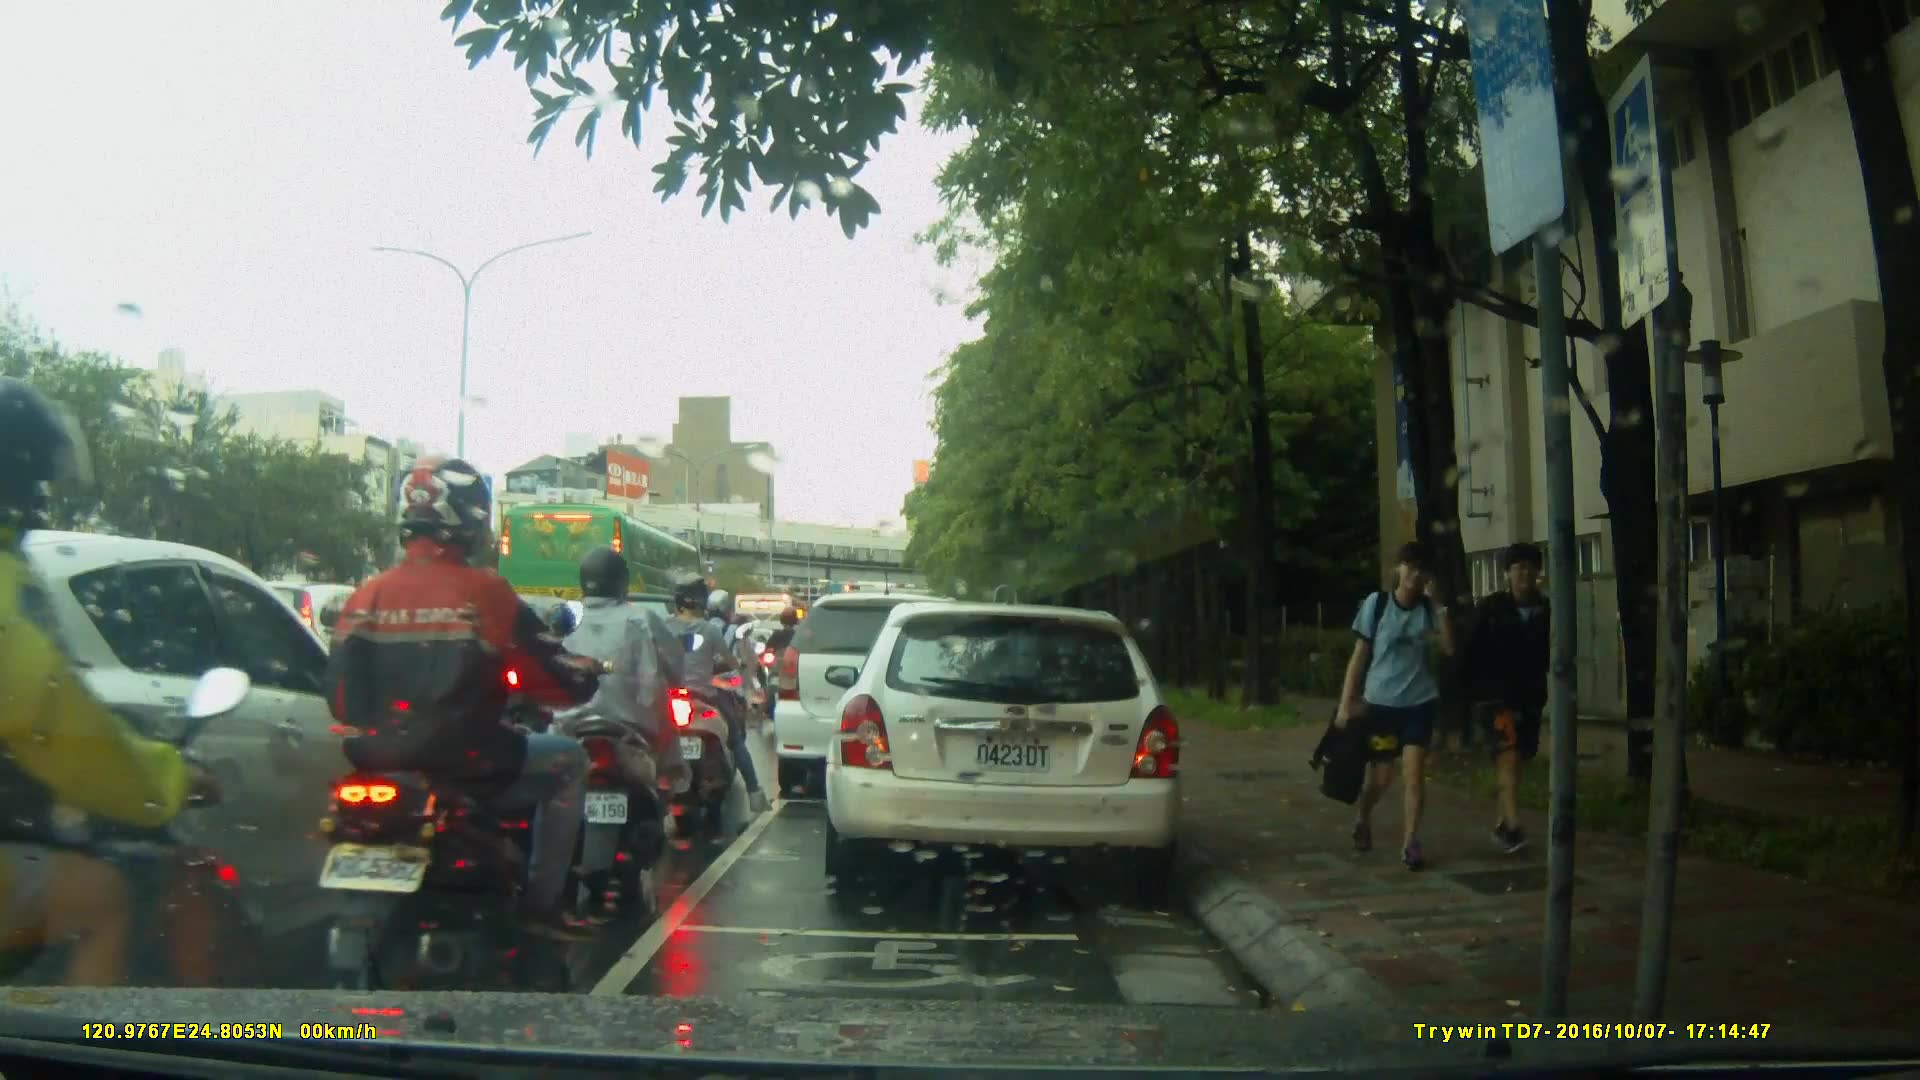pedestrian: (1314, 534, 1471, 870), (1465, 537, 1565, 867)
rider: (1, 370, 300, 1080), (320, 450, 618, 1001), (540, 549, 717, 895), (638, 565, 756, 827), (694, 588, 769, 766), (766, 601, 812, 723)
vehicle: (1, 529, 454, 988), (831, 592, 1196, 897), (321, 590, 628, 781), (770, 590, 999, 803), (495, 502, 707, 636)
